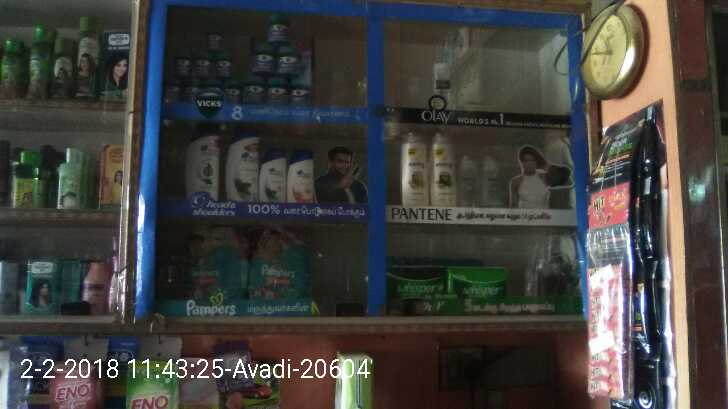vicks: (165, 9, 315, 110)
